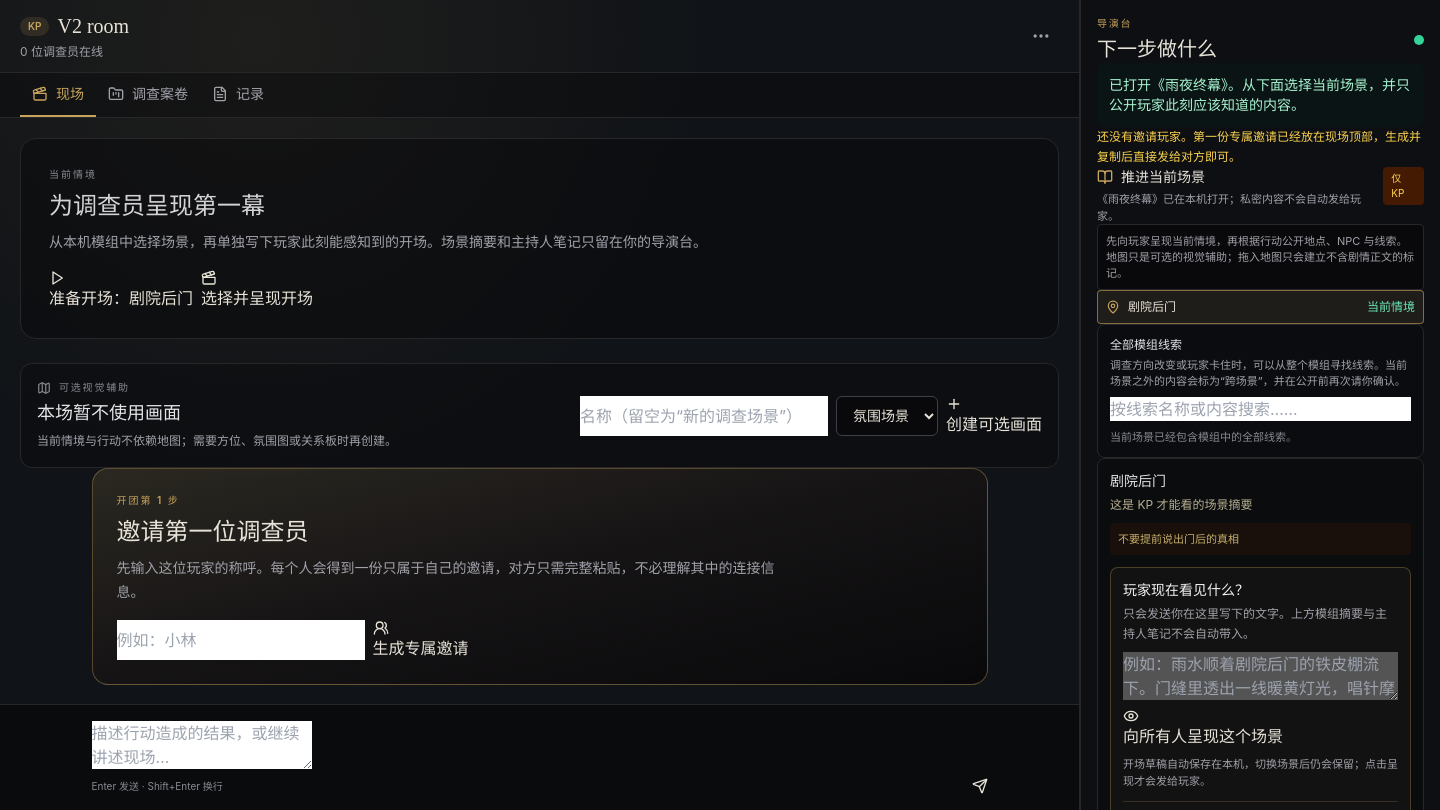
Test: RoomViewV2 board creation › takes a keeper with a loaded module straight from the empty situation to the private scene workbench
Click the button "选择并呈现开场". click: coordinates (257, 290)
box: [201, 270, 313, 310]
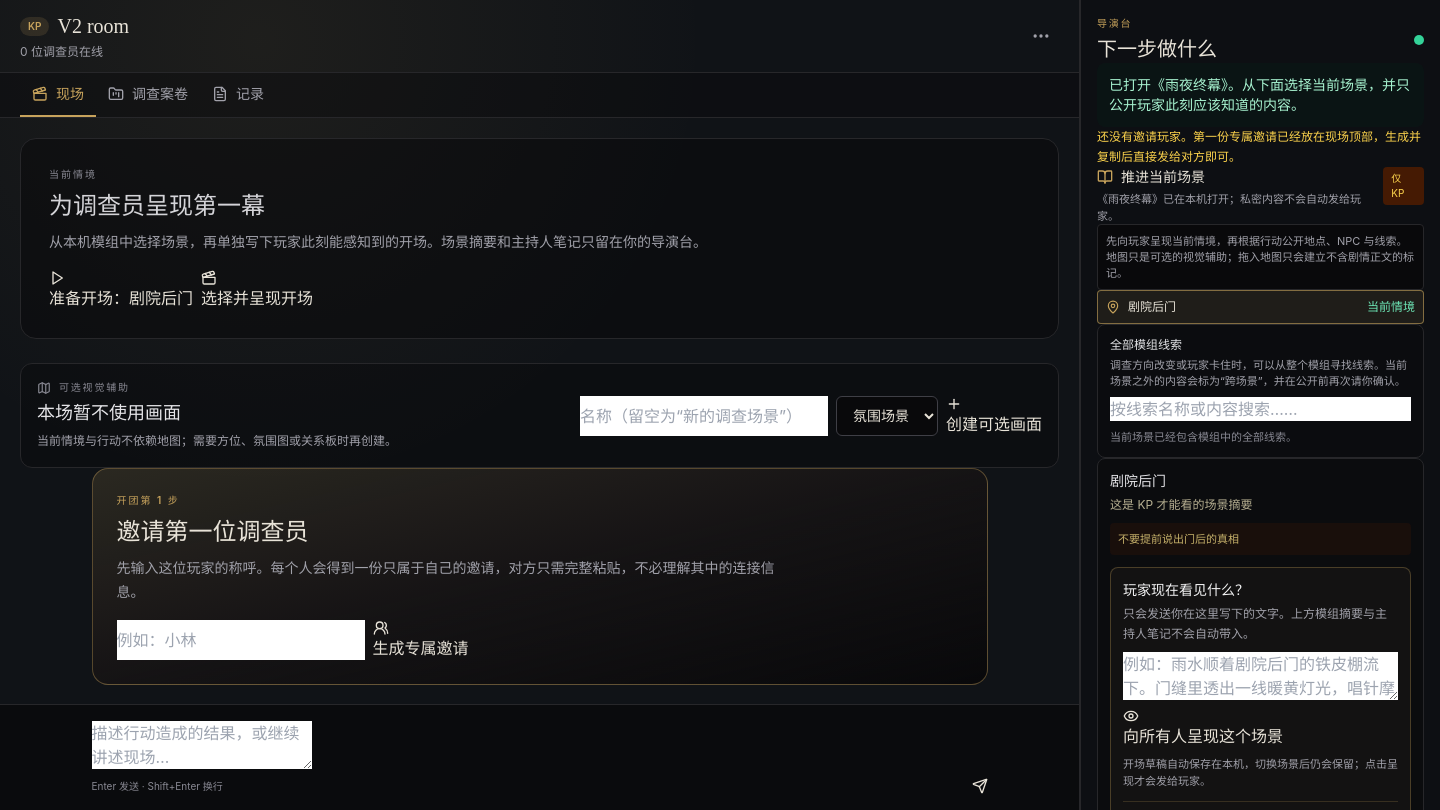
Check: the text "这是 KP 才能看的场景摘要" is shown, box [1110, 497, 1252, 512]
Check: the dialog "导演台" is shown, box [1080, 0, 1439, 809]
